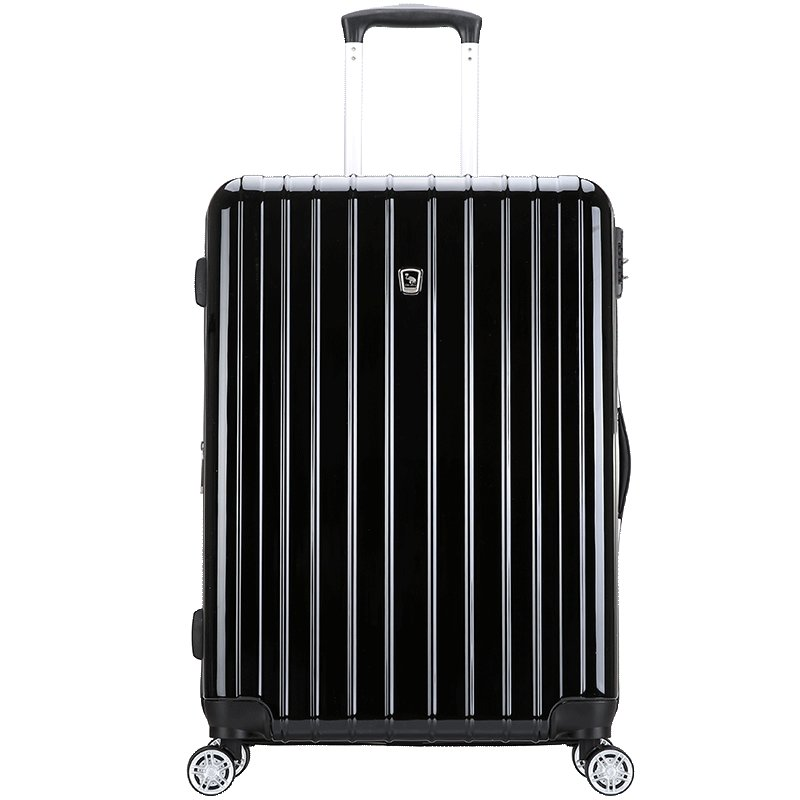box: (203, 176, 619, 747)
wheel: (186, 745, 237, 796), (585, 746, 634, 796)
